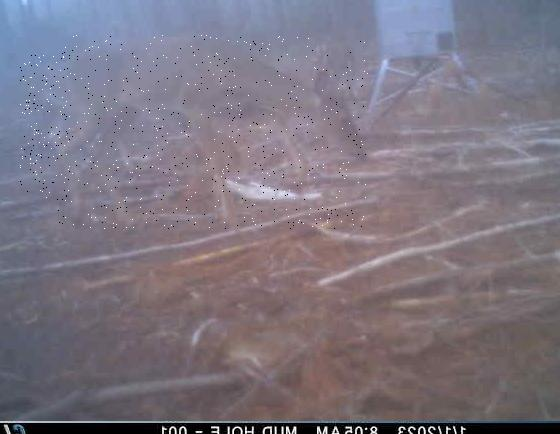Deer: (55, 35, 369, 229), (20, 56, 70, 199)
